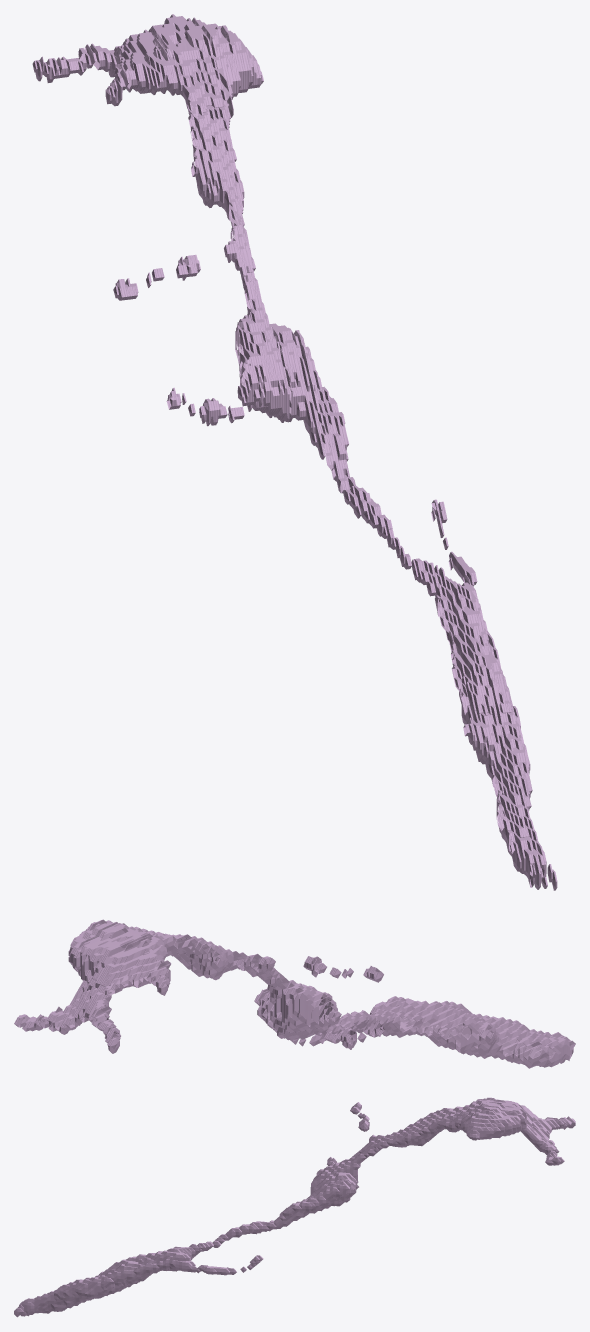
Rendered from SVV_FLPL.gltf.
3 renders of one model, top to bottom at view 1: azimuth 30°, elevation 25°; view 2: azimuth 150°, elevation 25°; view 3: azimuth 270°, elevation 25°, orthographic. The views are drawn at different scales.
Parts seen in each view (by area): view 1: FLPL; view 2: FLPL; view 3: FLPL.
Part boxes in pixels (x1=…): FLPL: x1=32, y1=14, x2=557, y2=890; FLPL: x1=14, y1=919, x2=575, y2=1068; FLPL: x1=14, y1=1097, x2=575, y2=1317.
Size of the model in its own units: 31022 by 52097 by 110054.
